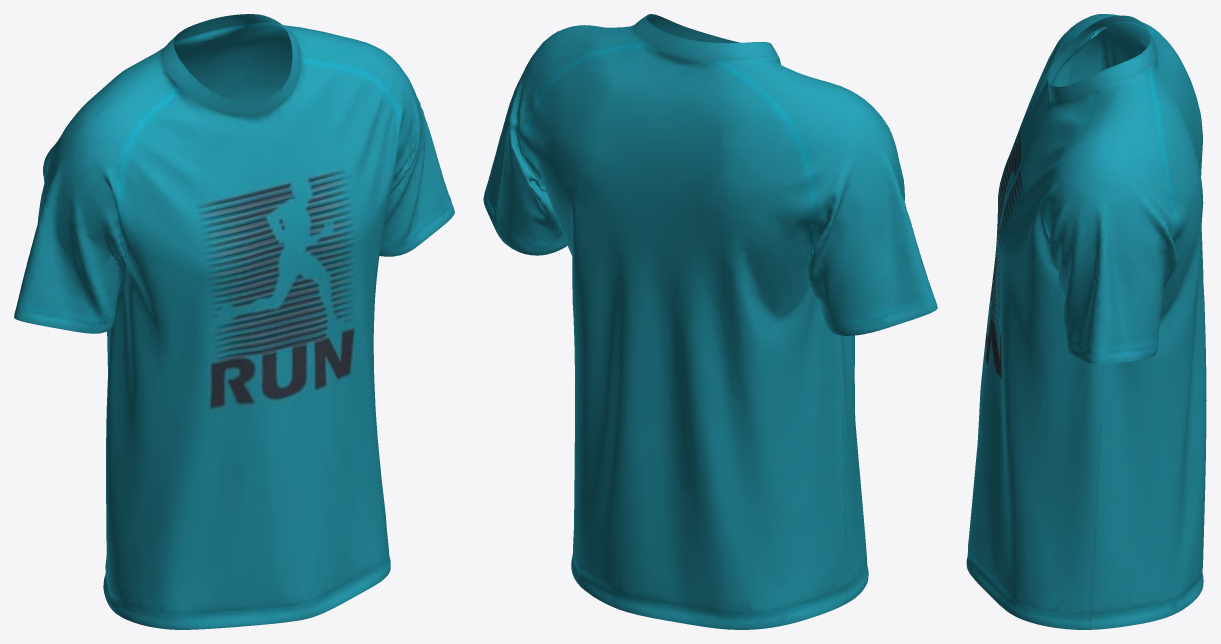
File: camiseta-run-turquesa-lite.glb
The picture shows the model from 3 angles, left to right: view 1: azimuth 30°, elevation 25°; view 2: azimuth 150°, elevation 25°; view 3: azimuth 270°, elevation 25°; orthographic projection. The views are drawn at different scales.
Parts seen in each view (by area): view 1: Object_6; view 2: Object_6; view 3: Object_6.
Part boxes in pixels (x1,y1,x2,y2): Object_6: (14, 14, 454, 629); Object_6: (483, 14, 937, 629); Object_6: (966, 14, 1206, 629).
Size of the model in its own units: 0.5901 by 0.7 by 0.2841.
Materials: 1 (1 with a texture image).
